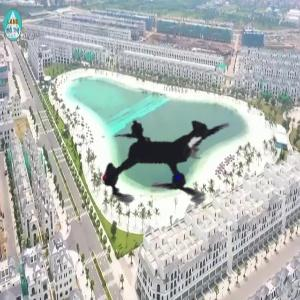drone: (62, 61, 266, 265)
